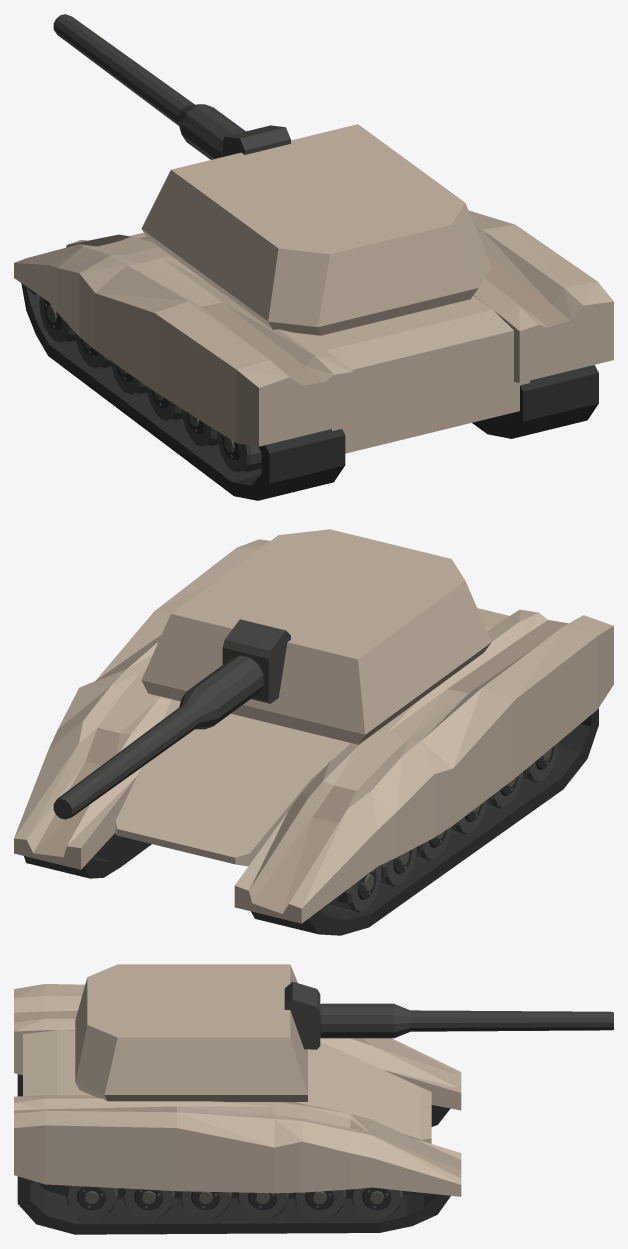
The model's file is sand-tank.glb.
3 views of the same model, one above another, from view 1: azimuth 30°, elevation 25°; view 2: azimuth 150°, elevation 25°; view 3: azimuth 270°, elevation 25° (orthographic). The views are drawn at different scales.
Visible parts, largest first — view 1: Hull, Turret, Track_L, Barrel, Track_R, RoadWheel_L_06, RoadWheel_L_01, RoadWheel_L_05, RoadWheel_L_04; view 2: Hull, Turret, Track_L, Barrel, Track_R, RoadWheel_L_01, RoadWheel_L_02, RoadWheel_L_06, RoadWheel_L_03, RoadWheel_L_05, RoadWheel_L_04; view 3: Hull, Turret, Track_R, Barrel, RoadWheel_R_06, RoadWheel_R_01, RoadWheel_R_05, RoadWheel_R_02, RoadWheel_R_04, RoadWheel_R_03, Track_L.
Boxes of the visible parts, bbox=[...] form: Hull: bbox=[14, 210, 613, 453]; Turret: bbox=[141, 124, 491, 335]; Track_L: bbox=[21, 283, 345, 500]; Barrel: bbox=[53, 14, 245, 159]; Track_R: bbox=[472, 365, 598, 438]; RoadWheel_L_06: bbox=[217, 431, 261, 474]; RoadWheel_L_01: bbox=[39, 296, 75, 344]; RoadWheel_L_05: bbox=[181, 409, 218, 448]; RoadWheel_L_04: bbox=[146, 386, 182, 422]; Hull: bbox=[14, 539, 613, 923]; Turret: bbox=[141, 529, 491, 744]; Track_L: bbox=[251, 708, 598, 935]; Barrel: bbox=[53, 655, 263, 819]; Track_R: bbox=[24, 841, 151, 878]; RoadWheel_L_01: bbox=[327, 865, 381, 912]; RoadWheel_L_02: bbox=[380, 847, 416, 886]; RoadWheel_L_06: bbox=[522, 742, 559, 782]; RoadWheel_L_03: bbox=[415, 826, 451, 860]; RoadWheel_L_05: bbox=[486, 772, 523, 808]; RoadWheel_L_04: bbox=[451, 799, 487, 834]; Hull: bbox=[14, 984, 461, 1198]; Turret: bbox=[75, 964, 320, 1101]; Track_R: bbox=[17, 1176, 450, 1234]; Barrel: bbox=[320, 1003, 613, 1038]; RoadWheel_R_06: bbox=[65, 1185, 117, 1219]; RoadWheel_R_01: bbox=[351, 1187, 402, 1219]; RoadWheel_R_05: bbox=[122, 1188, 174, 1219]; RoadWheel_R_02: bbox=[294, 1189, 345, 1219]; RoadWheel_R_04: bbox=[179, 1191, 231, 1219]; RoadWheel_R_03: bbox=[236, 1192, 288, 1219]; Track_L: bbox=[17, 1074, 450, 1126].
Size of the model in its own units: 2.26 by 1.34 by 4.05.
